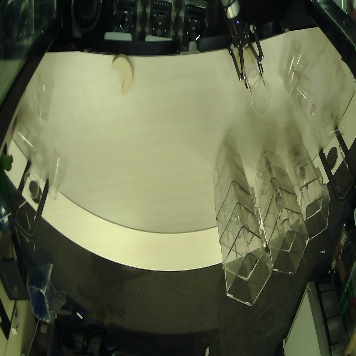empty_cup: (245, 65, 272, 115), (283, 51, 311, 94), (290, 81, 319, 119), (23, 154, 44, 199), (47, 155, 67, 201), (16, 123, 39, 152), (35, 82, 53, 118)
puck: (112, 53, 133, 94), (236, 45, 262, 67)
